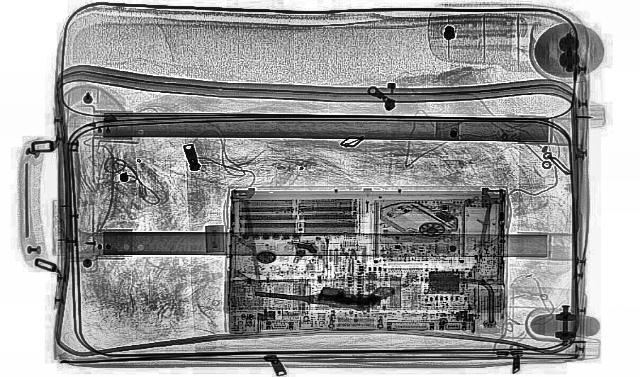Gun: (249, 270, 397, 314)
